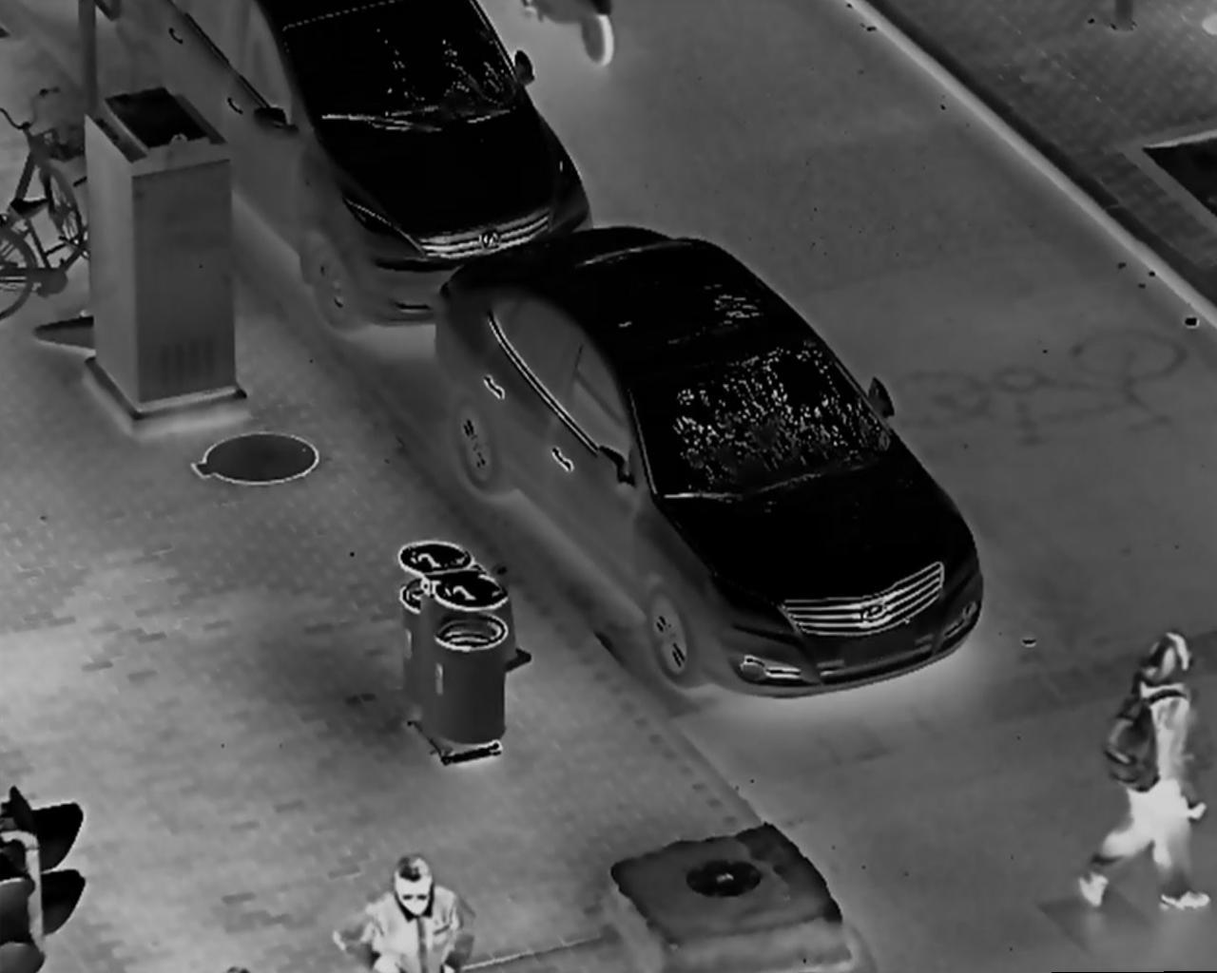person: (1078, 616, 1217, 924), (326, 849, 484, 973)
